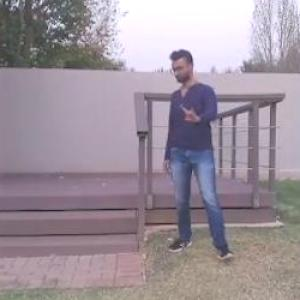takeoff-hand: (176, 94, 204, 126)
